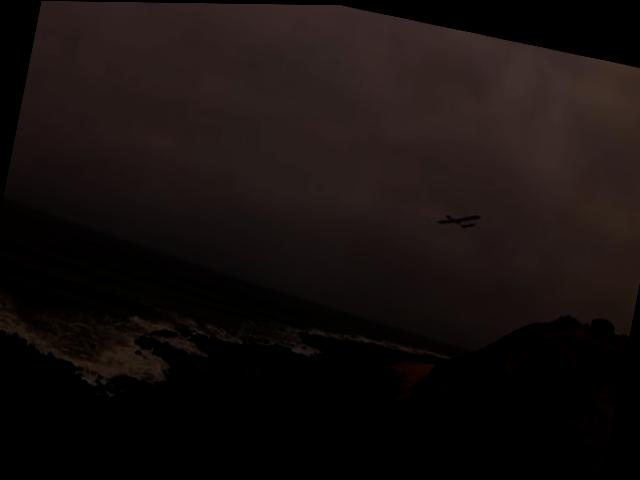uav: (430, 198, 488, 242)
